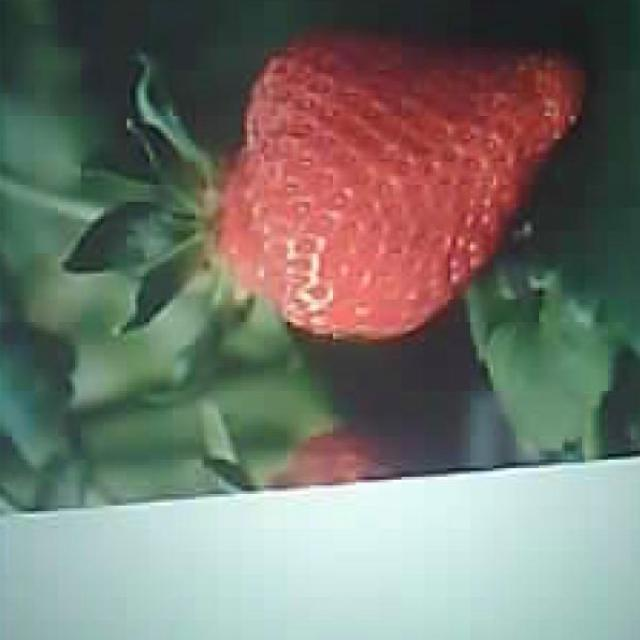Healthy Fruit: (210, 26, 587, 345)
